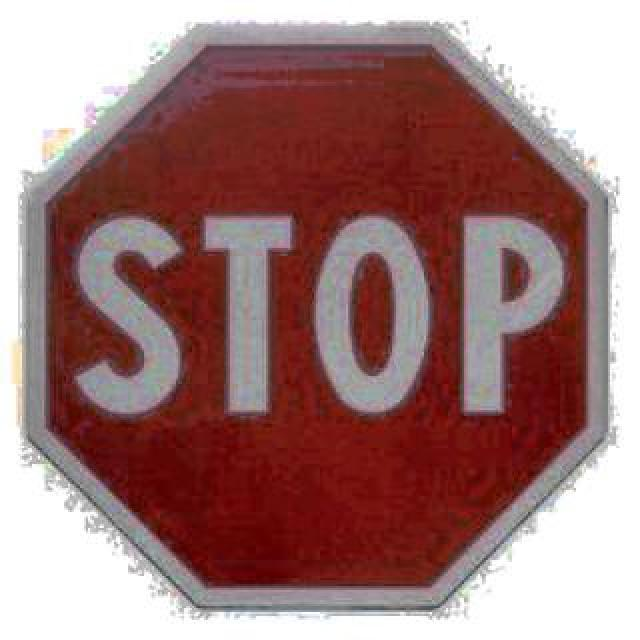stop: (24, 20, 614, 604)
